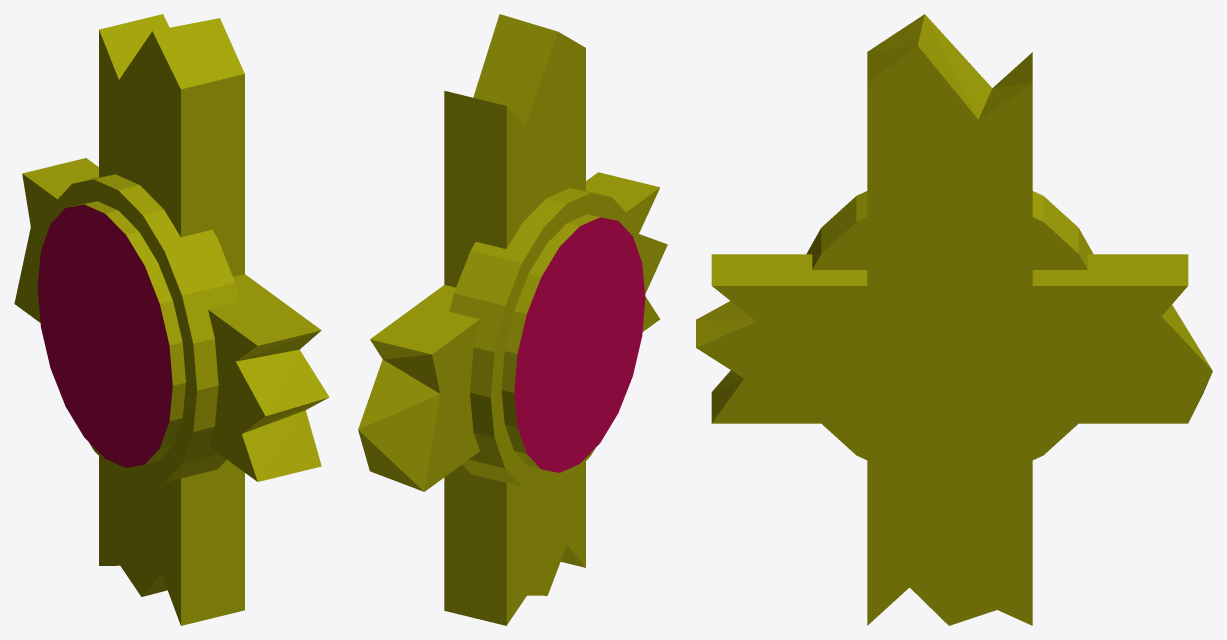
File: cross1.fbx
The picture shows the model from 3 angles, left to right: view 1: azimuth 30°, elevation 25°; view 2: azimuth 150°, elevation 25°; view 3: azimuth 270°, elevation 25°; orthographic projection. The views are drawn at different scales.
Parts seen in each view (by area): view 1: pCube2; view 2: pCube2; view 3: pCube2.
Boxes of the visible parts, x1,y1,x2,y2 form: pCube2: (14,14,329,625); pCube2: (358,14,667,625); pCube2: (696,14,1212,625).
Size of the model in its own units: 5.58 by 31.01 by 25.03.
